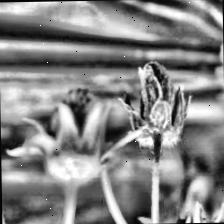Gray Mold: (119, 59, 192, 156)
